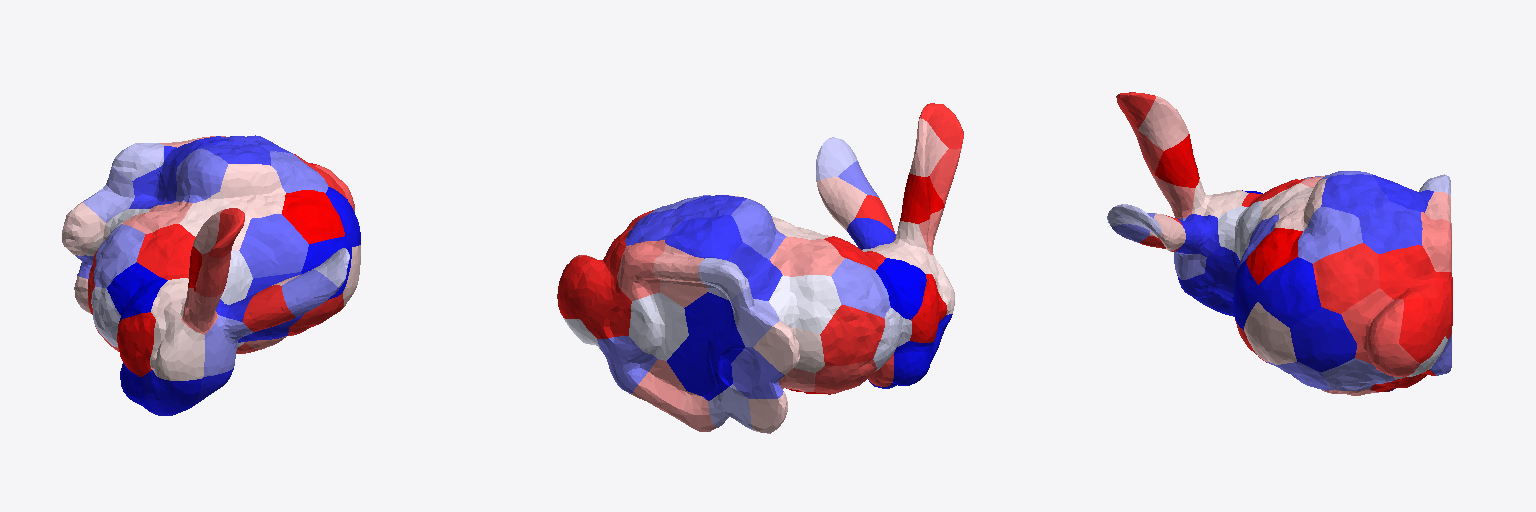
3 views of the same model, side by side, from view 1: azimuth 30°, elevation 25°; view 2: azimuth 150°, elevation 25°; view 3: azimuth 270°, elevation 25° (orthographic).
Visible parts, largest first — view 1: 3D_Object; view 2: 3D_Object; view 3: 3D_Object.
Part boxes in pixels (x1,y1,x2,y2): 3D_Object: (62, 135, 360, 415); 3D_Object: (557, 103, 963, 433); 3D_Object: (1107, 92, 1452, 395).
Size of the model in its own units: 1.99 by 1.53 by 2.
1 materials, 1 textured.